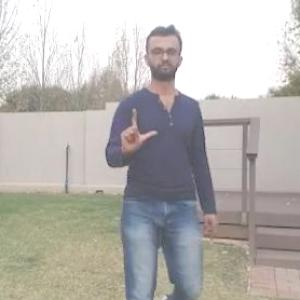land_hand: (115, 102, 161, 154)
